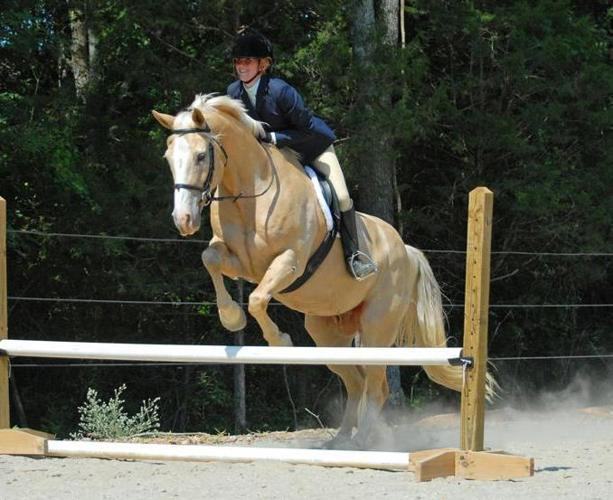person: (227, 31, 373, 280)
